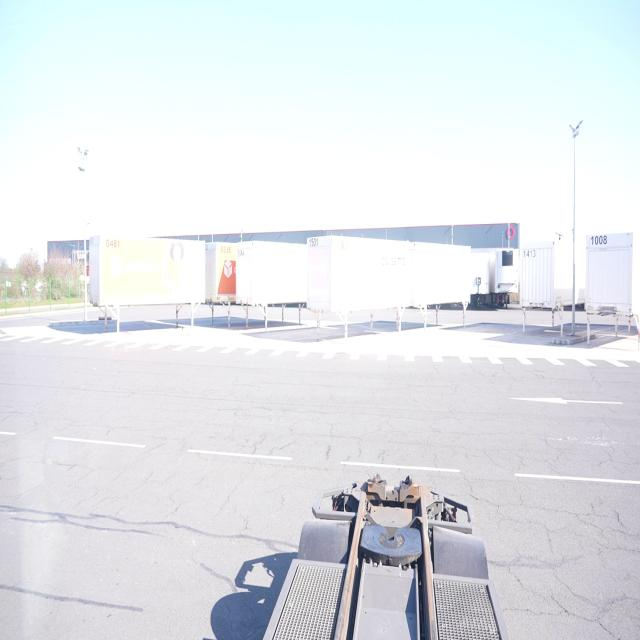Code: (104, 235, 123, 253), (520, 242, 537, 262), (589, 233, 611, 247), (304, 232, 321, 249)
